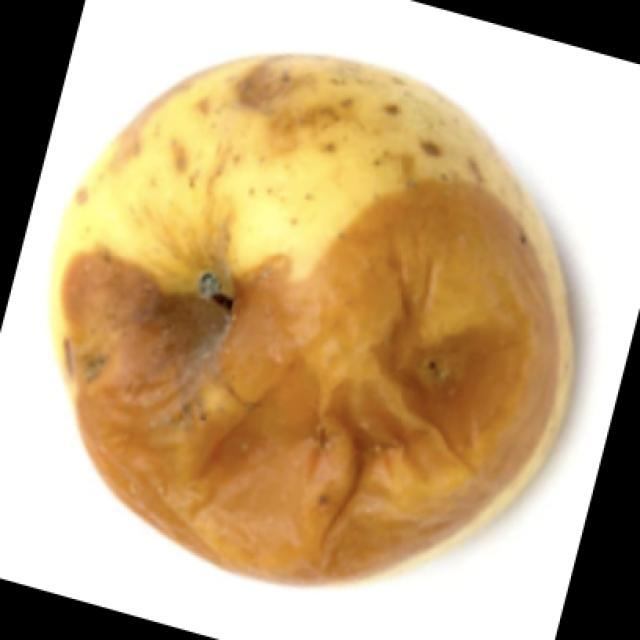Rotten: (67, 60, 558, 618)
